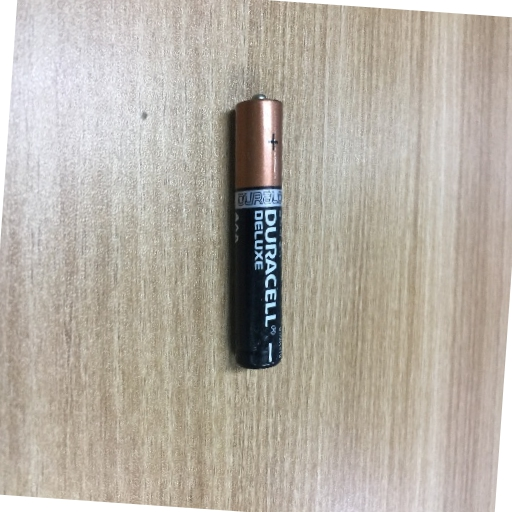Battery_0: (218, 82, 306, 382)
